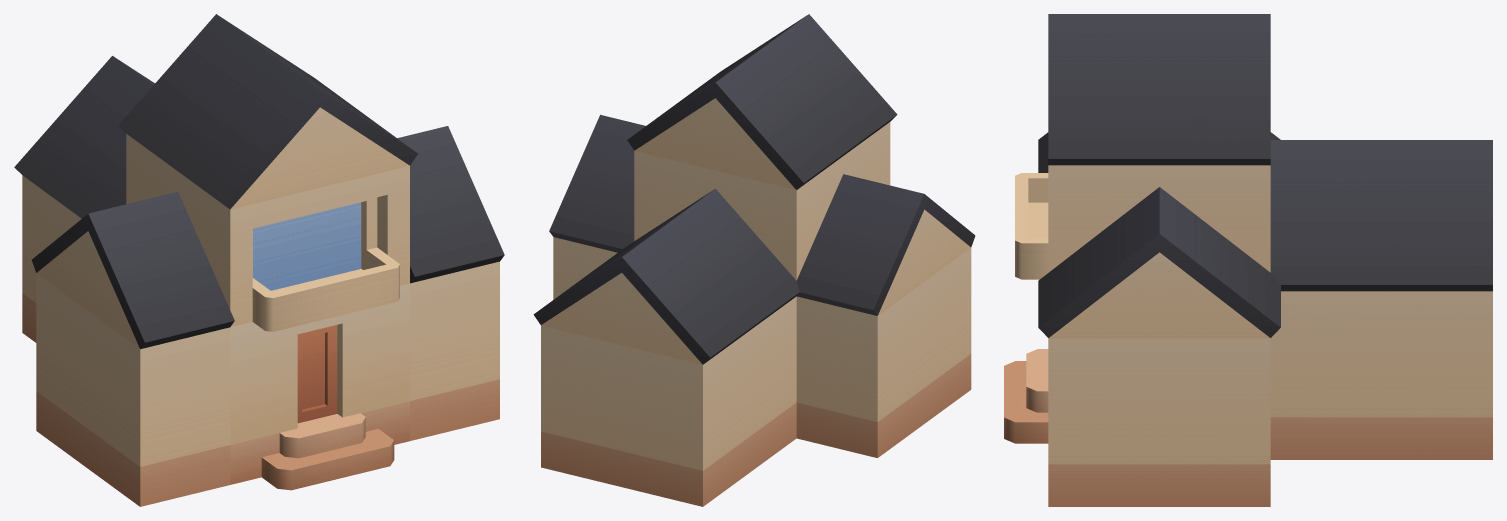
Rendered from building-sample-house-c.glb.
3 renders of one model, left to right at view 1: azimuth 30°, elevation 25°; view 2: azimuth 150°, elevation 25°; view 3: azimuth 270°, elevation 25°, orthographic. The views are drawn at different scales.
Visible parts, largest first — view 1: building-sample-house-c; view 2: building-sample-house-c; view 3: building-sample-house-c.
Boxes of the visible parts, left/top/right/bottom form: building-sample-house-c: left=14, top=14, right=504, bottom=506; building-sample-house-c: left=533, top=14, right=975, bottom=506; building-sample-house-c: left=1004, top=14, right=1492, bottom=506.
Size of the model in its own units: 2 by 1.98 by 2.2.
Materials: 1 (1 with a texture image).
